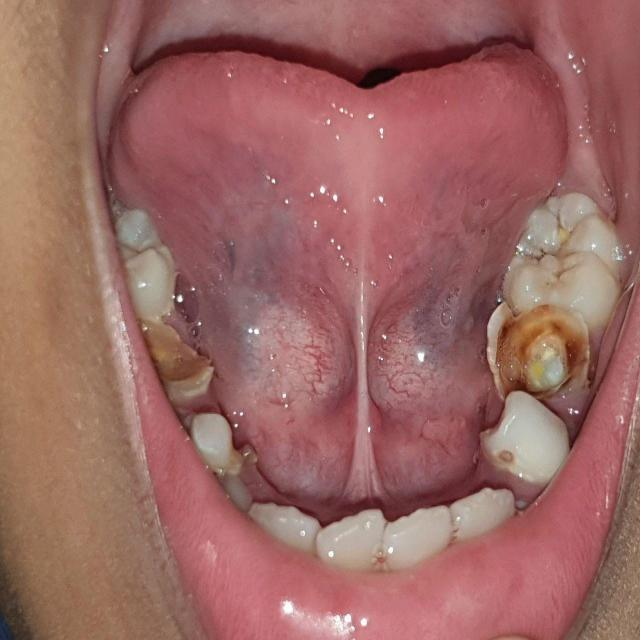caries: (506, 192, 628, 320), (487, 300, 596, 403), (482, 391, 572, 483), (110, 209, 180, 314), (139, 318, 217, 399)
